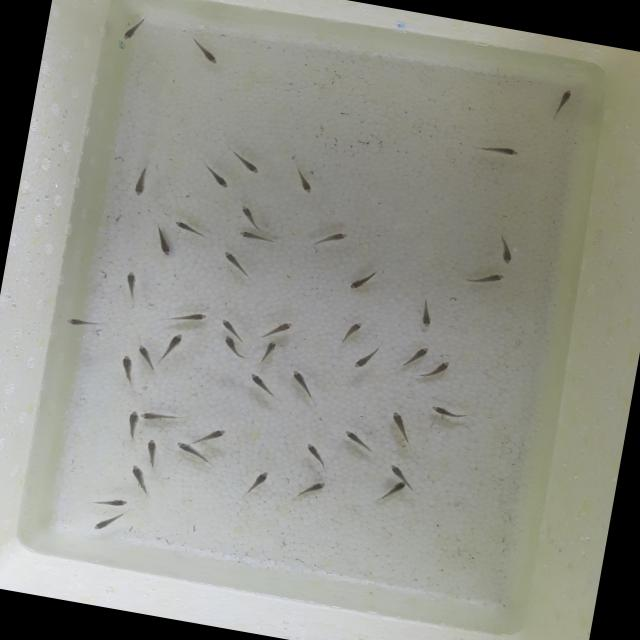fingerling: (307, 224, 353, 252), (110, 352, 140, 389), (292, 476, 326, 504), (58, 312, 102, 333), (550, 82, 574, 120), (244, 368, 276, 396), (216, 334, 248, 362), (117, 267, 145, 299), (217, 248, 250, 274), (476, 141, 521, 160), (286, 369, 315, 398), (345, 266, 375, 294), (376, 478, 406, 506), (130, 162, 152, 200), (338, 428, 372, 452), (300, 440, 330, 467), (257, 337, 283, 367), (140, 406, 181, 425), (385, 461, 416, 486), (422, 357, 449, 385), (126, 466, 152, 494), (190, 36, 218, 62), (290, 164, 316, 192), (388, 413, 413, 442), (414, 298, 436, 330), (402, 342, 429, 368), (202, 163, 230, 188), (466, 268, 501, 288), (136, 344, 160, 373), (91, 509, 121, 532), (352, 346, 378, 372), (234, 201, 261, 226), (152, 228, 175, 257), (260, 319, 290, 341), (218, 313, 245, 337), (190, 426, 222, 446), (492, 231, 514, 259), (176, 441, 210, 459), (428, 402, 466, 418), (232, 154, 262, 174), (140, 436, 160, 466), (174, 306, 209, 323), (122, 409, 140, 442), (159, 332, 181, 359), (239, 228, 276, 244), (122, 16, 145, 40), (245, 468, 268, 492), (339, 321, 361, 346), (174, 221, 206, 235), (109, 494, 133, 508)
